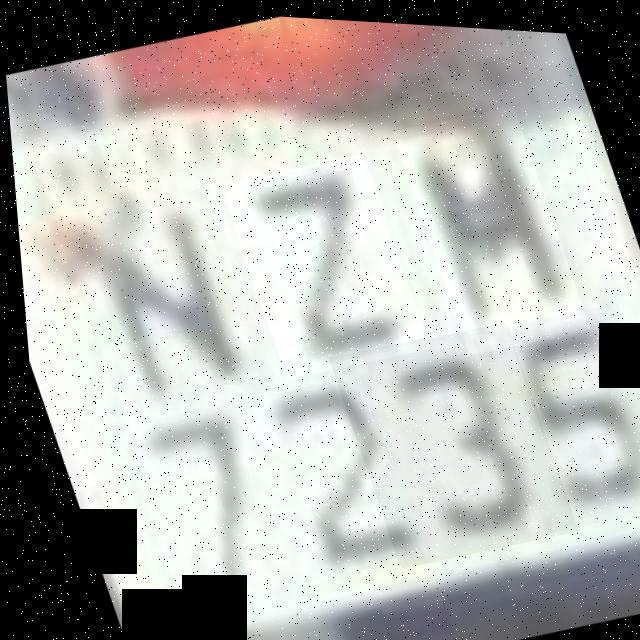2: (216, 343, 434, 591)
3: (320, 307, 573, 572)
5: (463, 288, 640, 535)
7: (94, 365, 292, 623)
H: (388, 93, 587, 355)
N: (47, 177, 272, 422)
Z: (214, 142, 428, 384)
